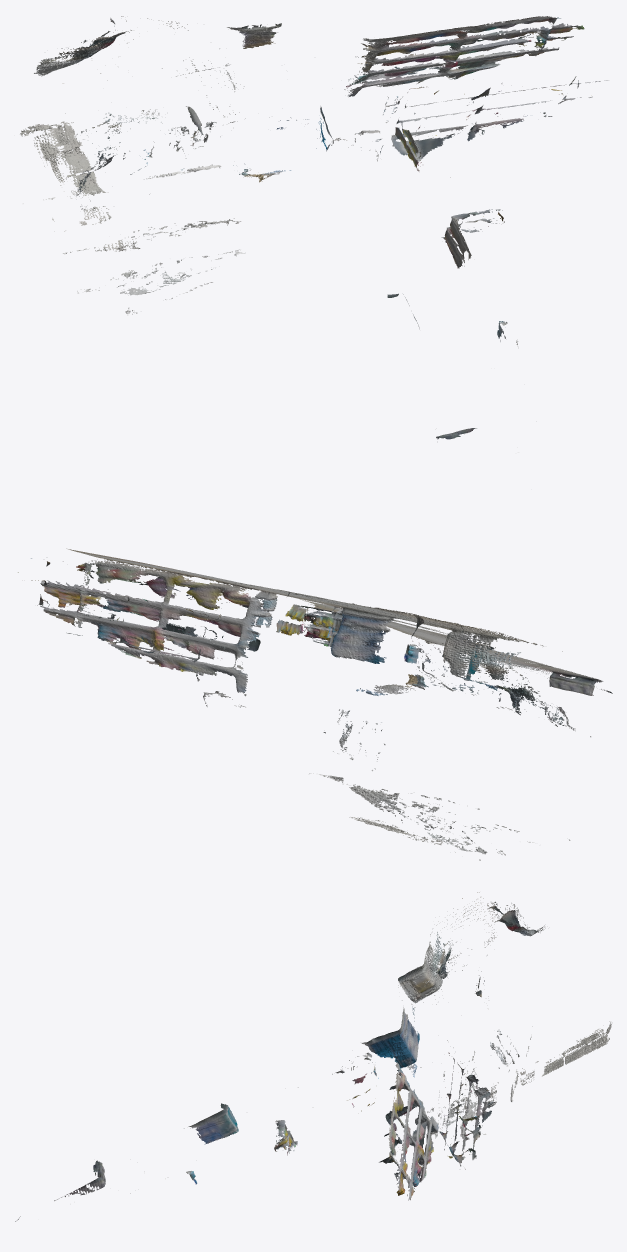
File: room-1.glb
3 renders of one model, top to bottom at view 1: azimuth 30°, elevation 25°; view 2: azimuth 150°, elevation 25°; view 3: azimuth 270°, elevation 25°, orthographic. The views are drawn at different scales.
Visible parts, largest first — view 1: geometry_0; view 2: geometry_0; view 3: geometry_0.
Boxes of the visible parts, <box> form: geometry_0: <box>20,16,608,452</box>; geometry_0: <box>18,548,612,860</box>; geometry_0: <box>15,892,611,1221</box>.
Size of the model in its own units: 19.14 by 10.82 by 22.14.
